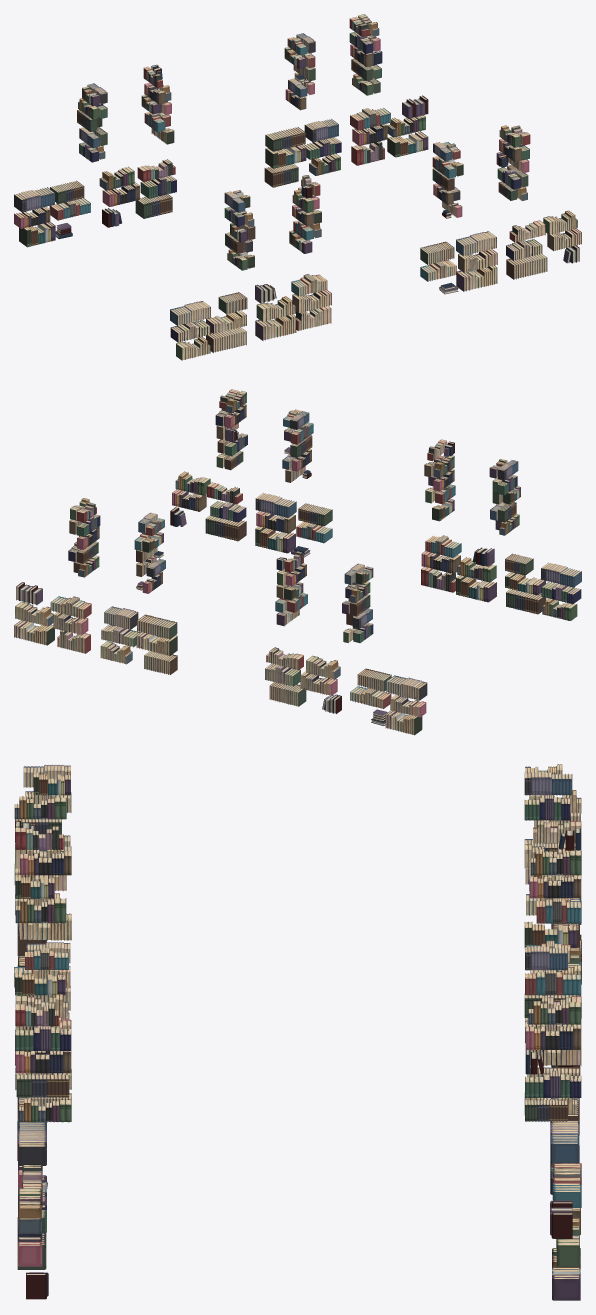
The model's file is FYP_asset_library_books_all_trish.fbx.
3 renders of one model, top to bottom at view 1: azimuth 30°, elevation 25°; view 2: azimuth 150°, elevation 25°; view 3: azimuth 270°, elevation 25°, orthographic. The views are drawn at different scales.
Visible parts, largest first — view 1: book_bunch_C1 (×2), book_bunch_A (×2), book_bunch_C (×2), book_bunch_B (×2), book_bunch_A3 (×2), book_bunch_B1 (×2), book_bunch_C2 (×2), book_bunch_G1 (×2), book_bunch_F1 (×2), book_bunch_E1 (×2), book_bunch_D1 (×2), book_bunch_A2 (×2) (+9 smaller); view 2: book_bunch_C1 (×2), book_bunch_B (×2), book_bunch_C (×2), book_bunch_A (×2), book_bunch_A3 (×2), book_bunch_B1 (×2), book_bunch_C2 (×2), book_bunch_F1 (×2), book_bunch_G1 (×2), book_bunch_E1 (×2), book_bunch_H1 (×2), book_bunch_G (×2) (+9 smaller); view 3: book_bunch_C1 (×3), book_bunch_B1 (×2), book_bunch_G1 (×2), book_bunch_B (×2), book_bunch_F (×2), book_bunch_D (×2), book_bunch_F1 (×2), book_bunch_D3 (×2), book_bunch_E1 (×2), book_bunch_H, book_bunch_G, book_bunch_H2 (+13 smaller).
Part boxes in pixels (x1=…): book_bunch_C1 (×2): x1=255, y1=131, x2=428, y2=340; book_bunch_A (×2): x1=135, y1=194, x2=547, y2=279; book_bunch_C (×2): x1=19, y1=222, x2=497, y2=291; book_bunch_B (×2): x1=14, y1=187, x2=496, y2=255; book_bunch_A3 (×2): x1=206, y1=164, x2=298, y2=352; book_bunch_B1 (×2): x1=170, y1=119, x2=338, y2=325; book_bunch_C2 (×2): x1=206, y1=145, x2=306, y2=333; book_bunch_G1 (×2): x1=291, y1=108, x2=390, y2=296; book_bunch_F1 (×2): x1=256, y1=115, x2=425, y2=321; book_bunch_E1 (×2): x1=296, y1=141, x2=384, y2=330; book_bunch_D1 (×2): x1=14, y1=206, x2=497, y2=272; book_bunch_A2 (×2): x1=218, y1=127, x2=305, y2=313; book_bunch_C1 (×2): x1=14, y1=575, x2=496, y2=645; book_bunch_B (×2): x1=255, y1=493, x2=427, y2=700; book_bunch_C (×2): x1=255, y1=526, x2=422, y2=735; book_bunch_A (×2): x1=205, y1=515, x2=306, y2=706; book_bunch_A3 (×2): x1=144, y1=589, x2=546, y2=674; book_bunch_B1 (×2): x1=104, y1=562, x2=581, y2=629; book_bunch_C2 (×2): x1=136, y1=572, x2=545, y2=655; book_bunch_F1 (×2): x1=15, y1=557, x2=496, y2=626; book_bunch_G1 (×2): x1=50, y1=535, x2=461, y2=618; book_bunch_E1 (×2): x1=57, y1=567, x2=455, y2=653; book_bunch_H1 (×2): x1=101, y1=582, x2=581, y2=647; book_bunch_G (×2): x1=296, y1=521, x2=391, y2=708; book_bunch_C1 (×3): x1=19, y1=913, x2=580, y2=1300; book_bunch_B1 (×2): x1=524, y1=772, x2=579, y2=1163; book_bunch_G1 (×2): x1=536, y1=898, x2=581, y2=1207; book_bunch_B (×2): x1=18, y1=946, x2=567, y2=1165; book_bunch_F (×2): x1=18, y1=1000, x2=581, y2=1233; book_bunch_D (×2): x1=18, y1=1024, x2=581, y2=1266; book_bunch_F1 (×2): x1=531, y1=849, x2=581, y2=1266; book_bunch_D3 (×2): x1=15, y1=1050, x2=581, y2=1073; book_bunch_E1 (×2): x1=15, y1=819, x2=581, y2=849; book_bunch_H: x1=525, y1=1070, x2=581, y2=1097; book_bunch_G: x1=525, y1=970, x2=581, y2=995; book_bunch_H2: x1=15, y1=1026, x2=71, y2=1051.
Bounding box in the file's own units: 34.97 × 11.85 × 24.57.
